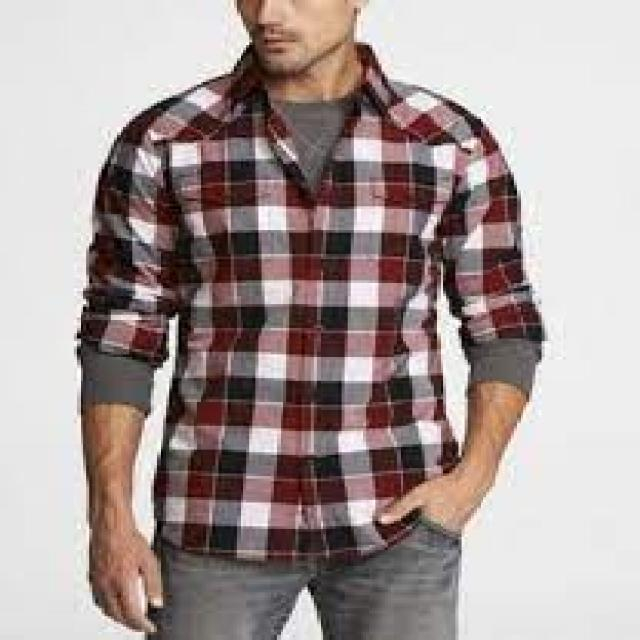plaid: (77, 79, 540, 573)
